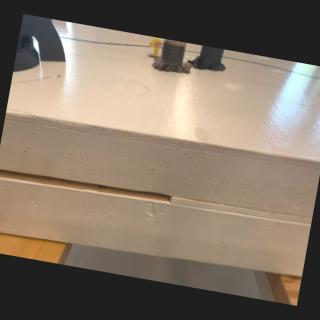teletubby: (149, 37, 162, 56)
